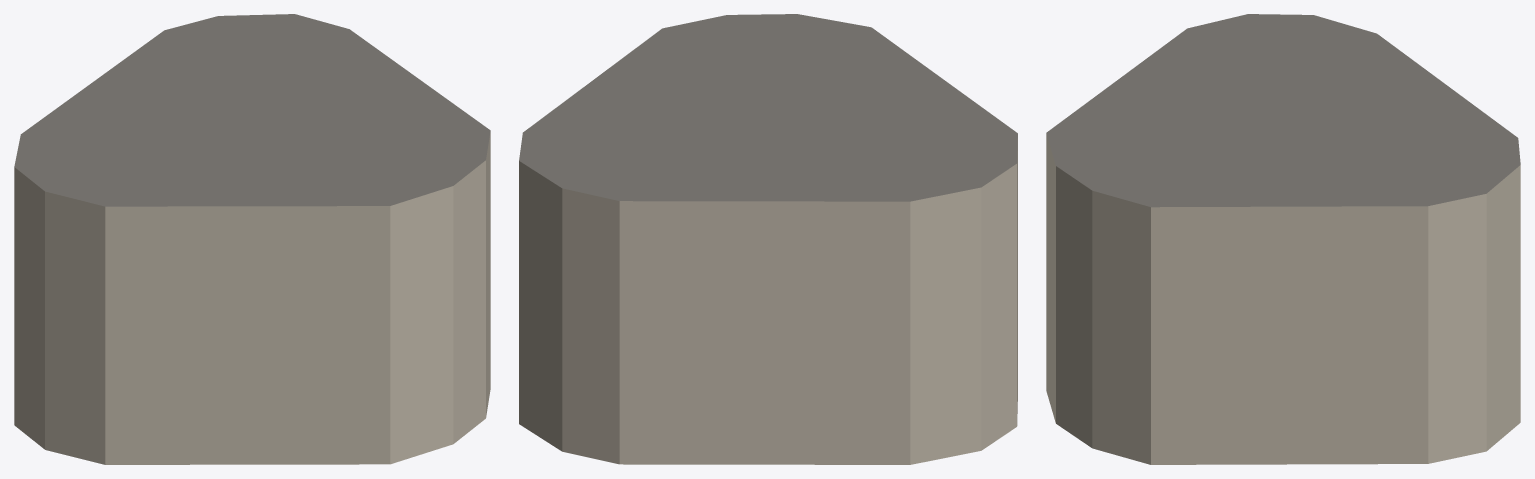
3 renders of one model, left to right at view 1: azimuth 30°, elevation 25°; view 2: azimuth 150°, elevation 25°; view 3: azimuth 270°, elevation 25°, orthographic. The views are drawn at different scales.
Visible parts, largest first — view 1: HP-w299010056; view 2: HP-w299010056; view 3: HP-w299010056.
Boxes of the visible parts, x1,y1,x2,y2 form: HP-w299010056: [14, 14, 490, 464]; HP-w299010056: [519, 14, 1017, 464]; HP-w299010056: [1046, 14, 1520, 464].
Size of the model in its own units: 28.93 by 18 by 30.02.
